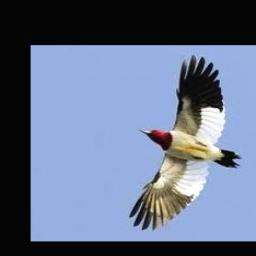Woodpecker: (130, 54, 242, 230)
